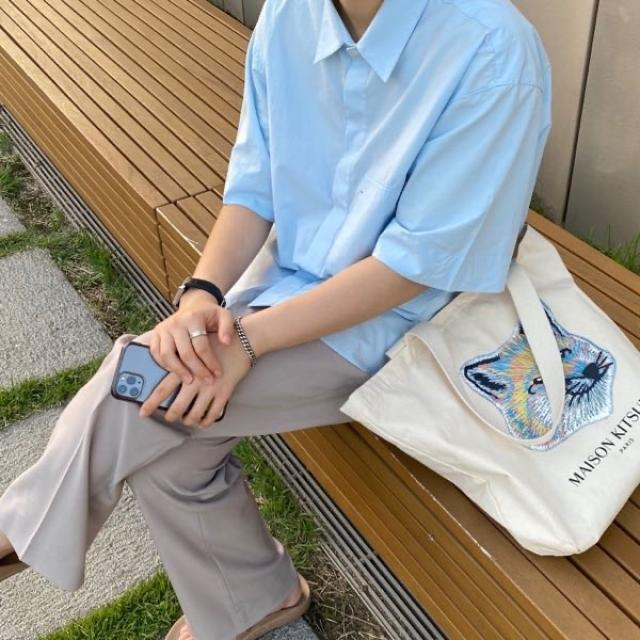shirt: (224, 2, 566, 296)
slacks: (0, 238, 342, 638)
